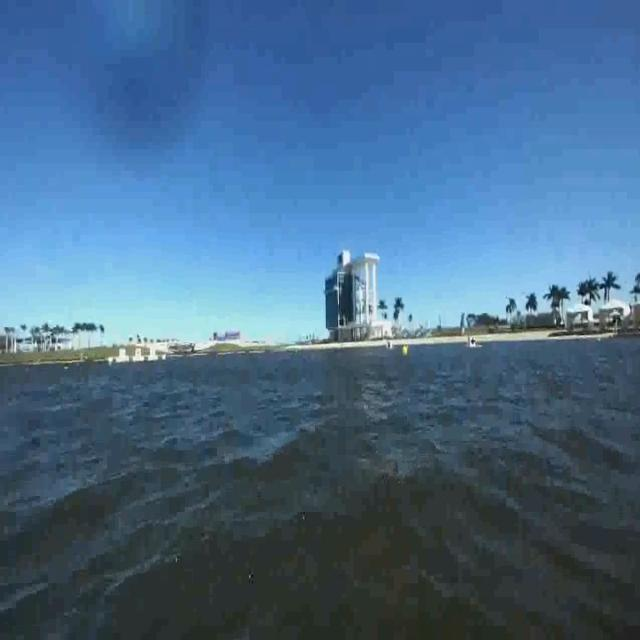yellow-buoy: (401, 344, 408, 358)
